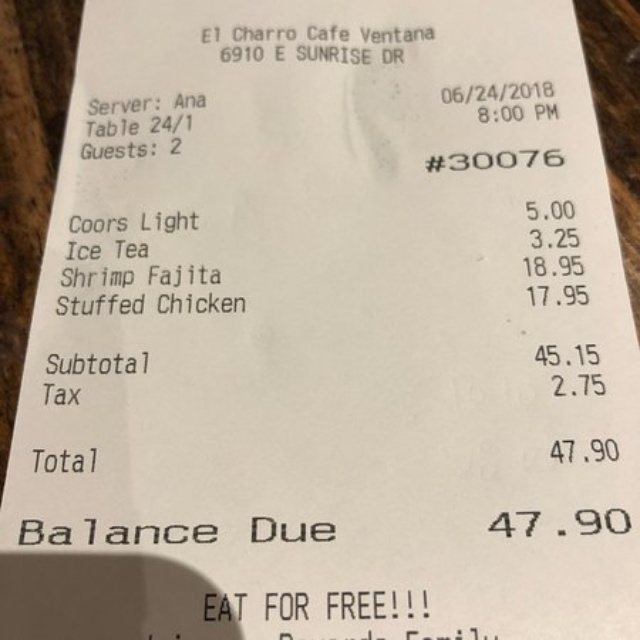invoice_table: (57, 200, 590, 314)
invoice_title: (196, 23, 436, 67)
invoice_total: (29, 440, 623, 471)
